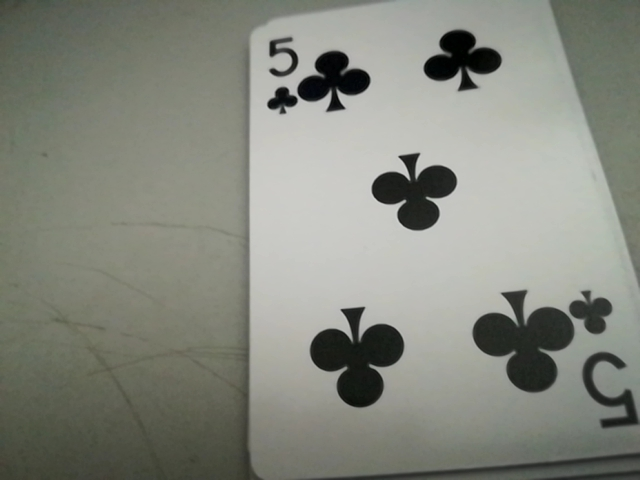mh 5: (578, 277, 636, 435), (254, 26, 342, 121)
